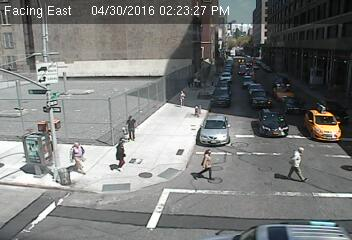neg: (34, 167, 55, 195), (169, 189, 188, 215), (94, 95, 113, 121), (29, 131, 48, 156), (315, 46, 334, 71), (37, 41, 56, 66), (166, 129, 184, 154), (223, 196, 240, 220), (123, 56, 140, 79), (91, 192, 108, 215), (246, 69, 262, 90), (158, 55, 173, 75), (45, 97, 59, 117), (193, 101, 207, 120), (198, 52, 212, 71), (56, 166, 70, 185), (72, 63, 86, 81), (251, 115, 265, 133), (293, 89, 307, 107), (218, 68, 230, 84), (285, 62, 297, 78), (139, 168, 151, 183)
pos: (284, 142, 314, 182), (110, 135, 136, 169), (196, 144, 220, 177), (68, 141, 90, 171), (123, 113, 143, 140), (176, 88, 190, 107)
